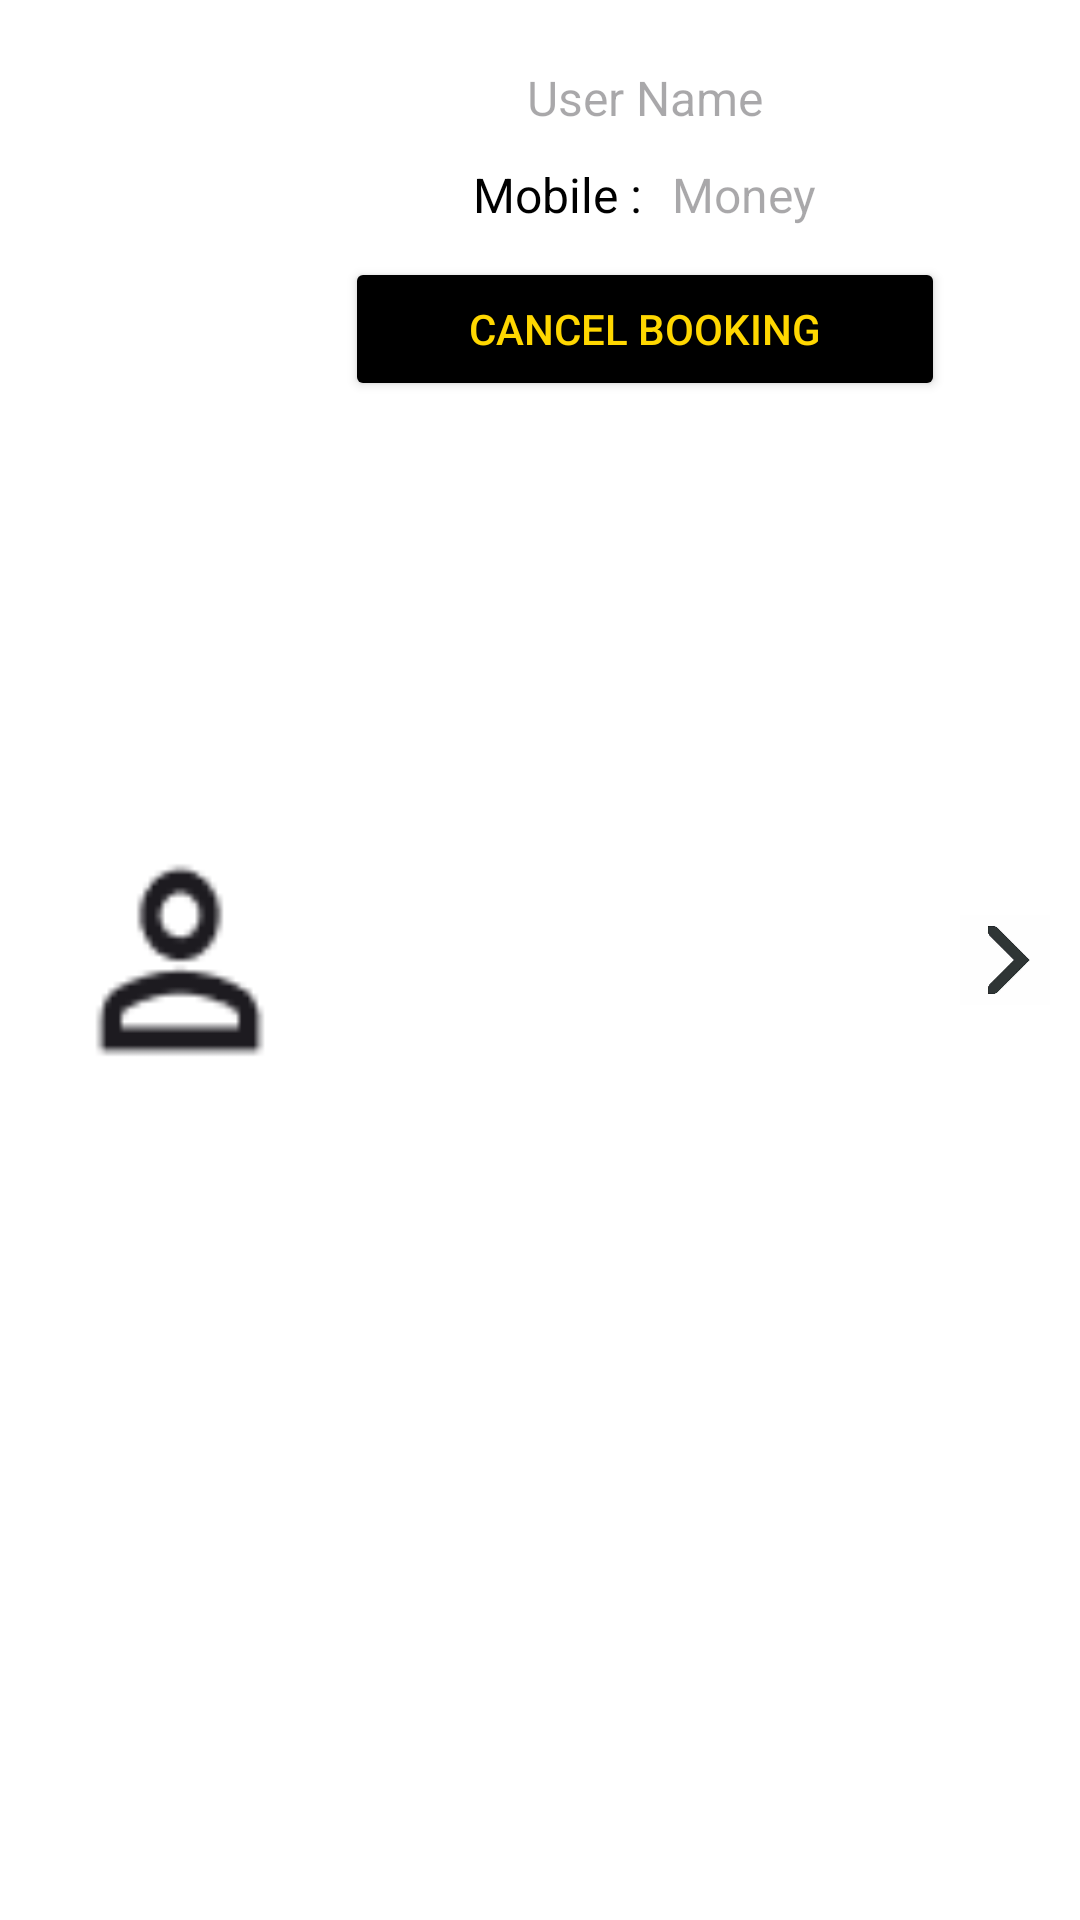

Named icons in this screenshot (1080×1920) and their centers, point (x, y):
next: point (1009, 960)
person: point (180, 960)
